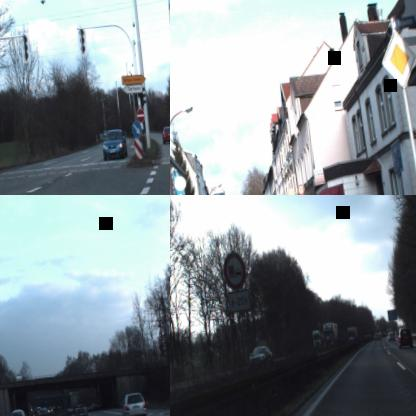NO ENTRY: (136, 108, 146, 122)
keep right: (130, 120, 142, 138)
no overtaking: (220, 250, 248, 291)
priority road: (377, 27, 416, 90)
speed limit 30: (296, 182, 305, 195)
